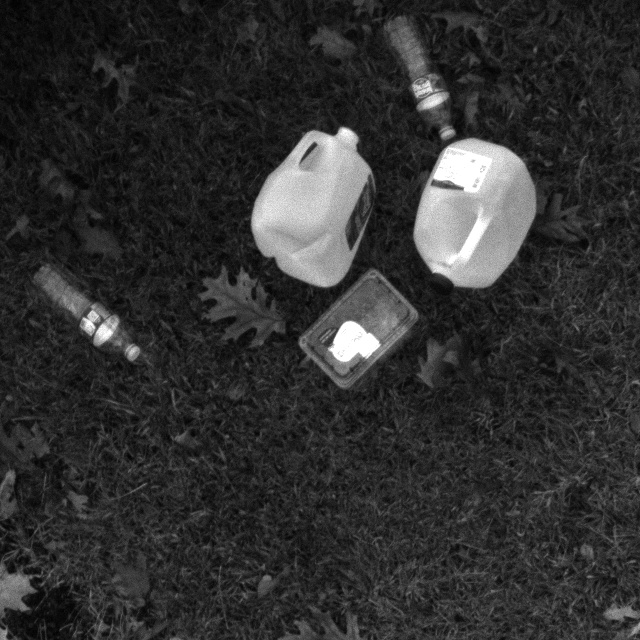bottle: (25, 267, 152, 373), (375, 9, 468, 149)
can: (249, 111, 399, 304), (406, 131, 556, 294)
container: (283, 268, 428, 404)
